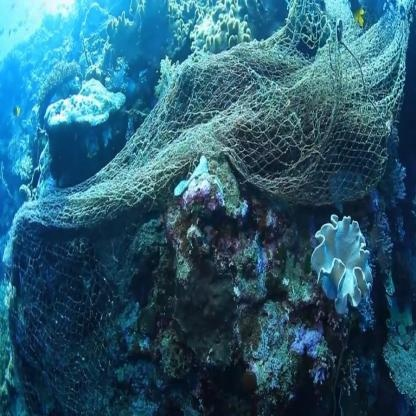net: (70, 42, 402, 191)
